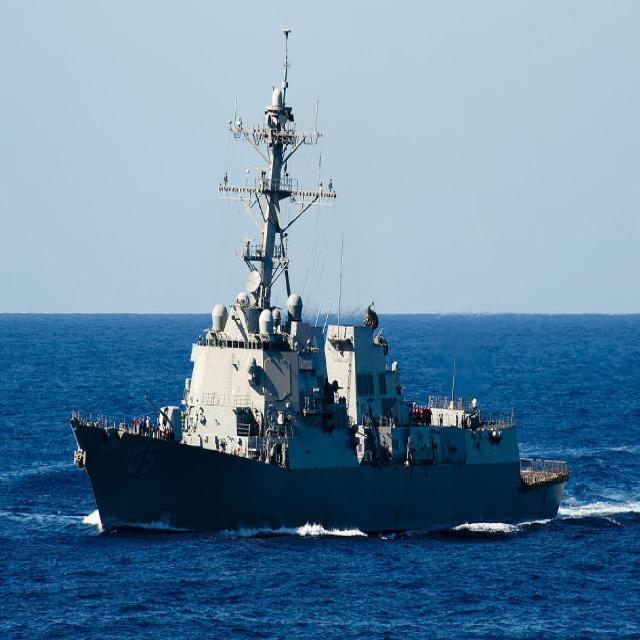navalvessels: (51, 35, 588, 576)
